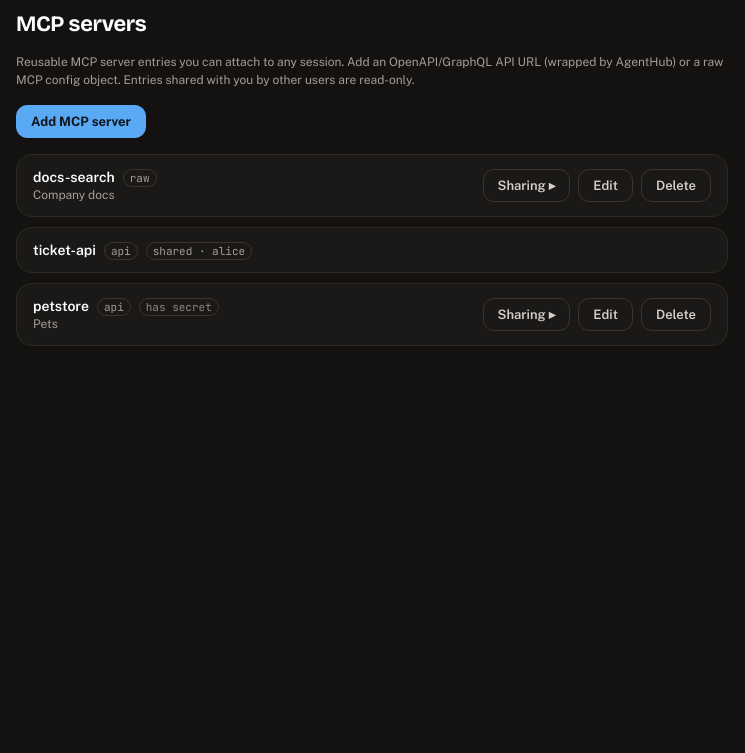
it: McpServersPane › rejects configs that are not a single JSON object
Click the button "Add MCP server".
click(81, 122)  # box [16, 105, 146, 138]
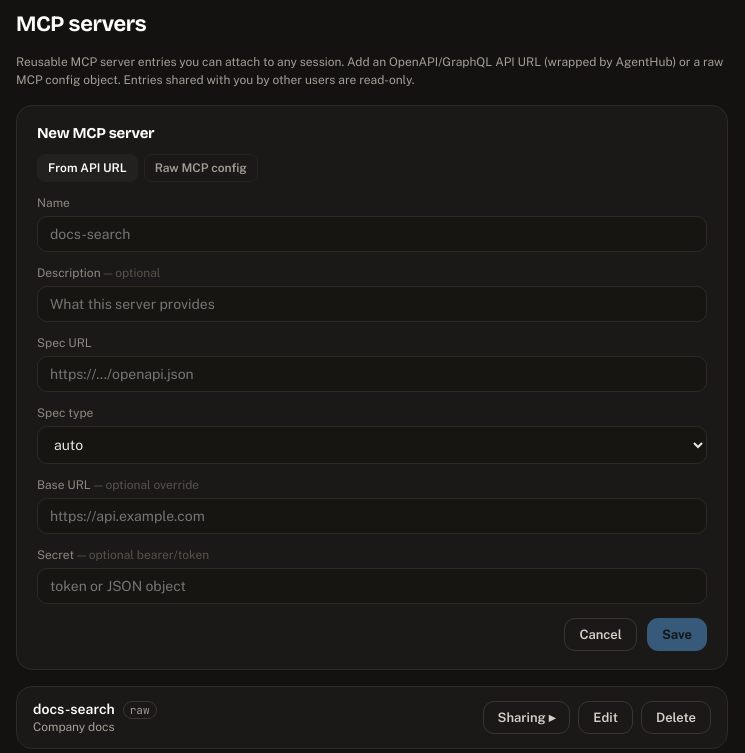
Click the button "Raw MCP config".
click(201, 168)  # box [144, 154, 258, 182]
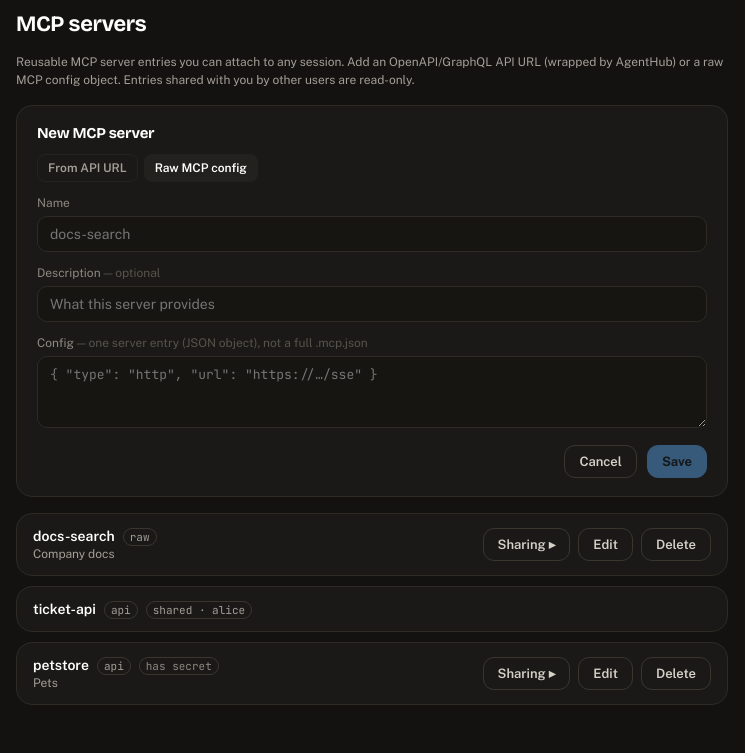
Type "array" into the field with placeholder "docs-search".
click(372, 234); type("array")  # box [37, 216, 707, 252]
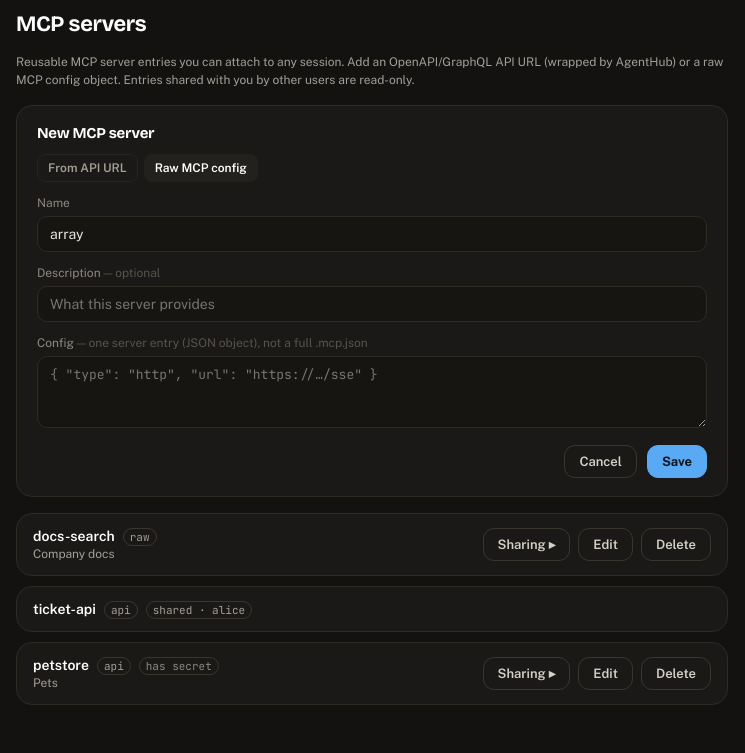
Type "[1,2]" into the text box with placeholder "{ \"type\": \"http\", \"url\": \"https://…/sse\" }".
click(372, 392); type("[1,2]")  # box [37, 356, 707, 428]
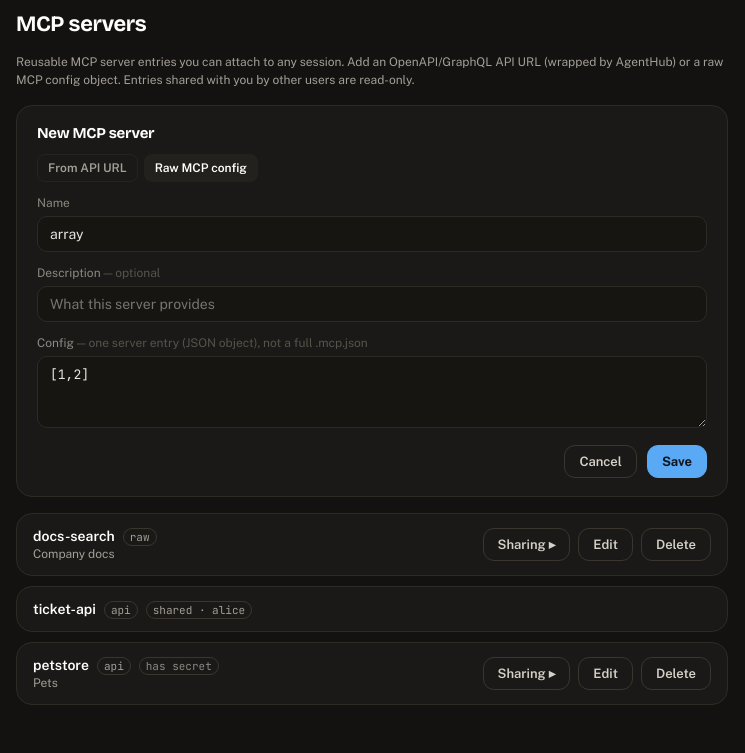
Click the button "Save".
click(677, 462)  # box [647, 445, 707, 478]
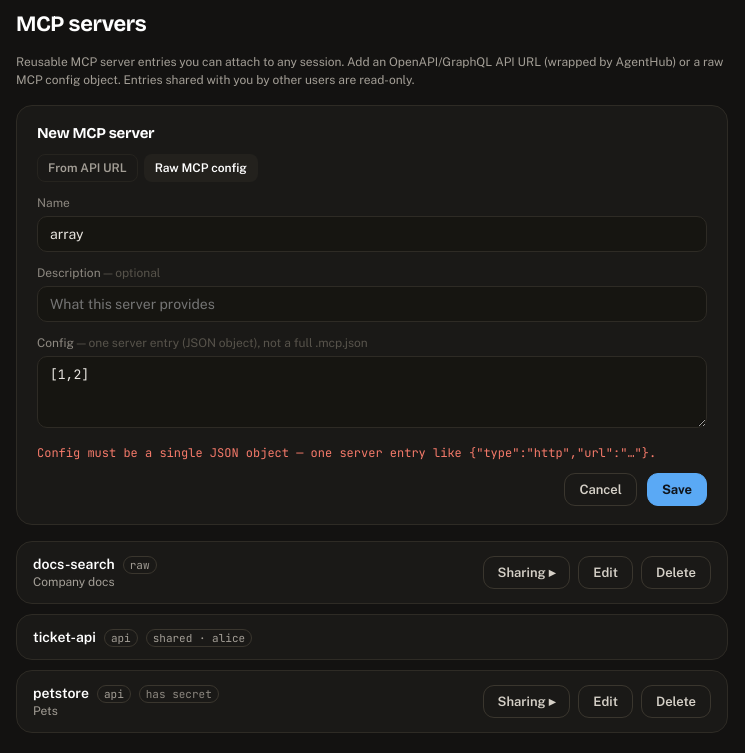
Check: the text "single JSON object" is shown, box [37, 445, 656, 461]
